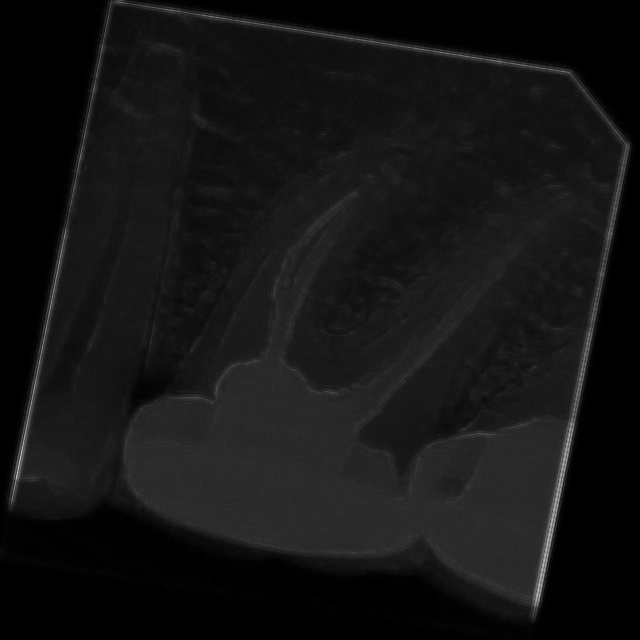Class 1- complete endodontic treatment: (109, 63, 589, 600)
cavity: (10, 14, 230, 528)
